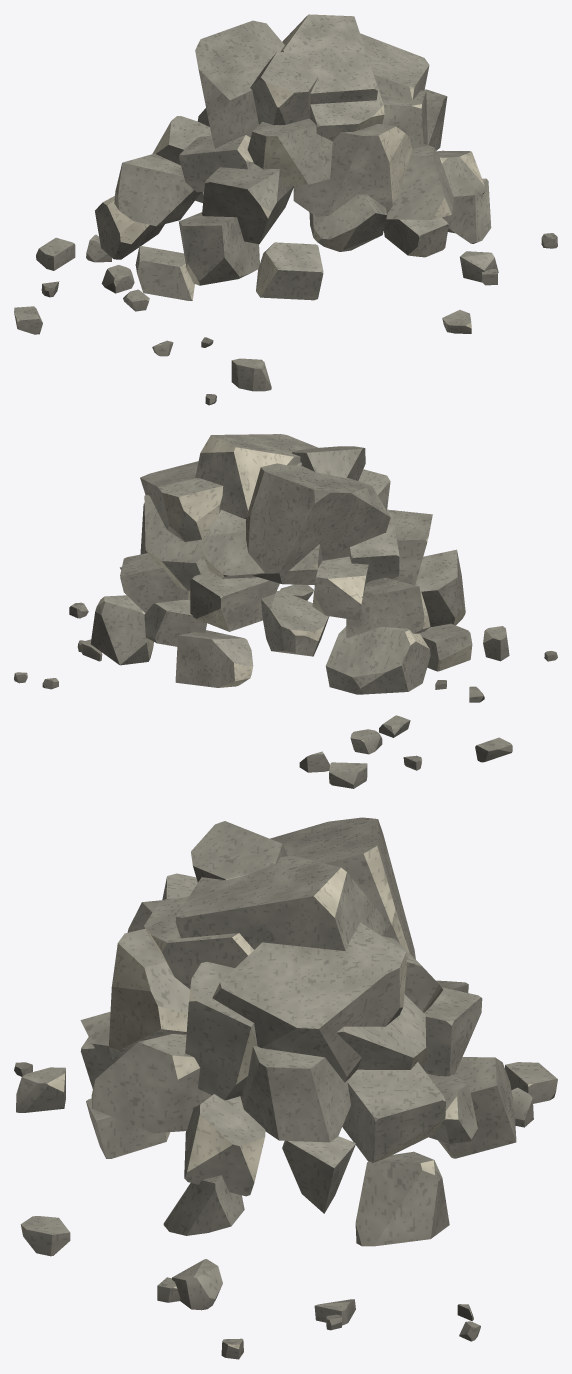
The picture shows the model from 3 angles, top to bottom: view 1: azimuth 30°, elevation 25°; view 2: azimuth 150°, elevation 25°; view 3: azimuth 270°, elevation 25°; orthographic projection. The views are drawn at different scales.
Parts seen in each view (by area): view 1: weathered mineral, fresh chipped mineral; view 2: weathered mineral, fresh chipped mineral; view 3: weathered mineral, fresh chipped mineral.
Part boxes in pixels (left/top/right/bottom): weathered mineral: left=14, top=14, right=557, bottom=405; fresh chipped mineral: left=17, top=15, right=484, bottom=395; weathered mineral: left=14, top=434, right=557, bottom=788; fresh chipped mineral: left=25, top=435, right=547, bottom=766; weathered mineral: left=14, top=817, right=557, bottom=1359; fresh chipped mineral: left=16, top=846, right=532, bottom=1349.
Bounding box in the file's own units: 1.96 × 0.9473 × 1.34.
2 materials, 2 textured.
